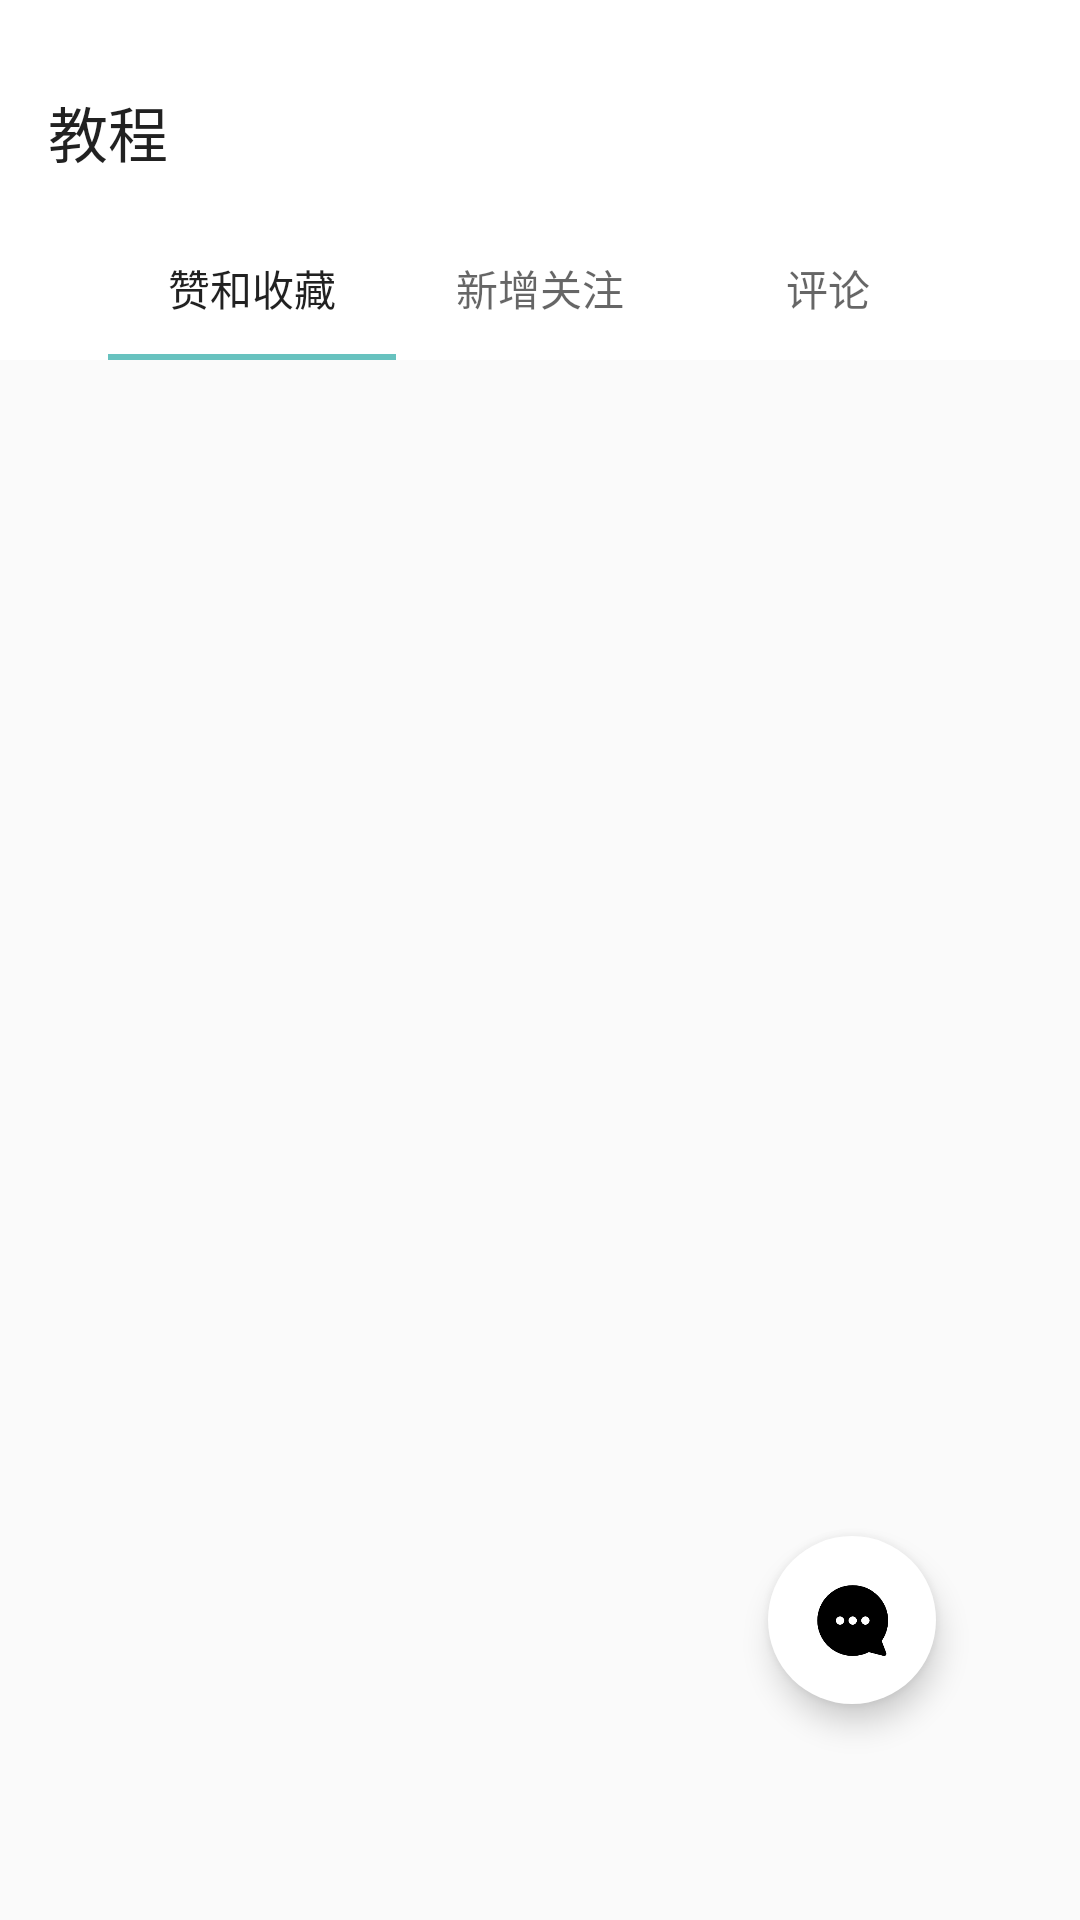

Point at icon controls on the screen. Image size 1080px x 1920px, points as point (x, y).
message: point (829, 1620)
